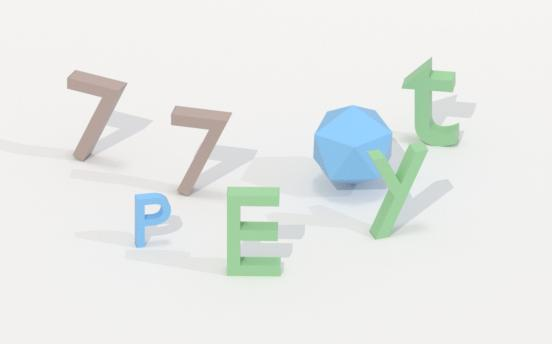7: (59, 68, 134, 167), (163, 104, 237, 200)
E-hoa: (223, 184, 288, 280)
Y: (357, 141, 431, 239)
dagiac: (306, 106, 395, 187)
p: (131, 189, 179, 251)
t: (398, 56, 471, 150)
